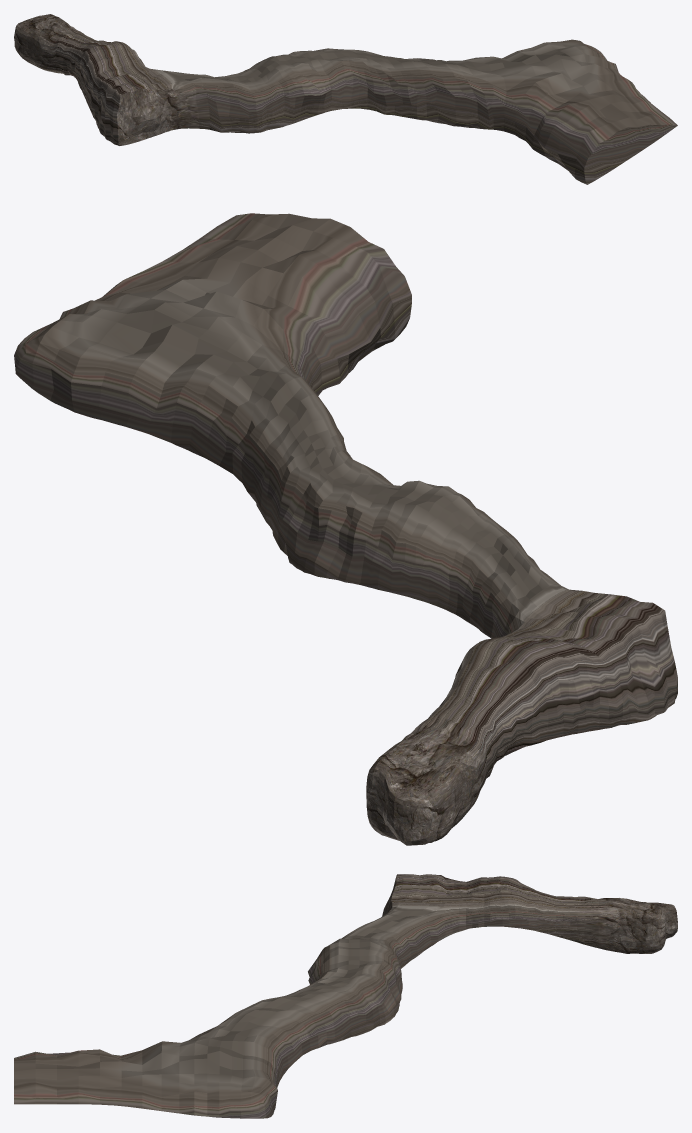
Rendered from CentralRockFormation.fbx.
3 views of the same model, one above another, from view 1: azimuth 30°, elevation 25°; view 2: azimuth 150°, elevation 25°; view 3: azimuth 270°, elevation 25° (orthographic). The views are drawn at different scales.
Parts seen in each view (by area): view 1: MediumLargeRock; view 2: MediumLargeRock; view 3: MediumLargeRock.
Part boxes in pixels (bbox=[...]): MediumLargeRock: bbox=[14, 14, 677, 184]; MediumLargeRock: bbox=[14, 213, 677, 845]; MediumLargeRock: bbox=[14, 874, 677, 1118].
Size of the model in its own units: 2071 by 299 by 2448.
